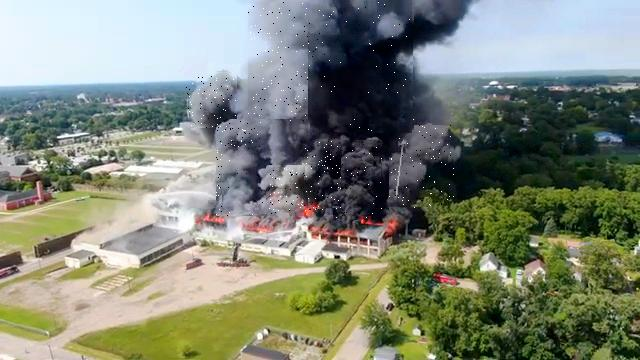smoke: (310, 0, 414, 133), (249, 3, 326, 122), (390, 126, 455, 211), (216, 119, 262, 216), (333, 141, 382, 219), (223, 147, 269, 214), (186, 70, 237, 128), (302, 142, 341, 212), (266, 166, 306, 216)
